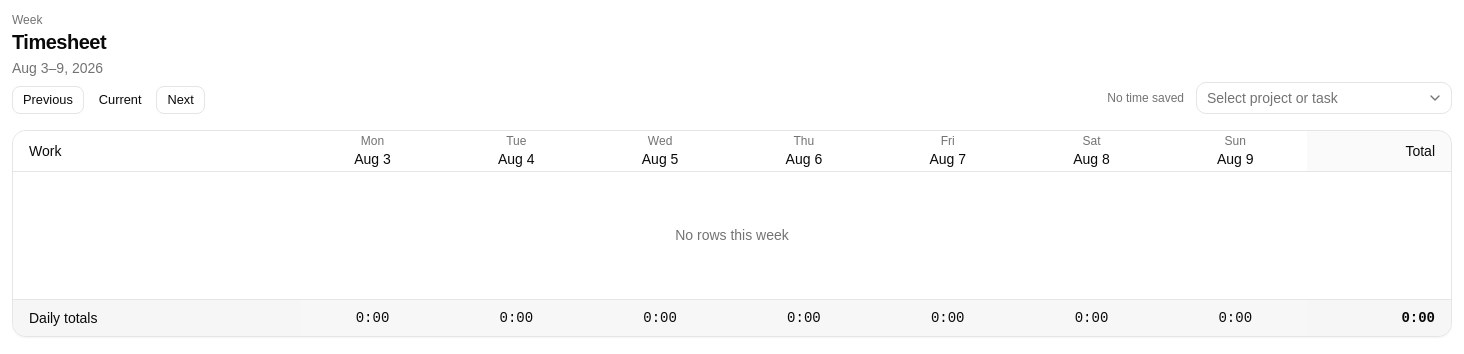
Scenario: adds a transient blank row from the selector
Check: the text "No rows this week" is shown, box x1=13 y1=171 x2=1451 y2=299
Click the dropdown labelled "Select project or task" at (1324, 98), box x1=1196 y1=82 x2=1452 y2=114
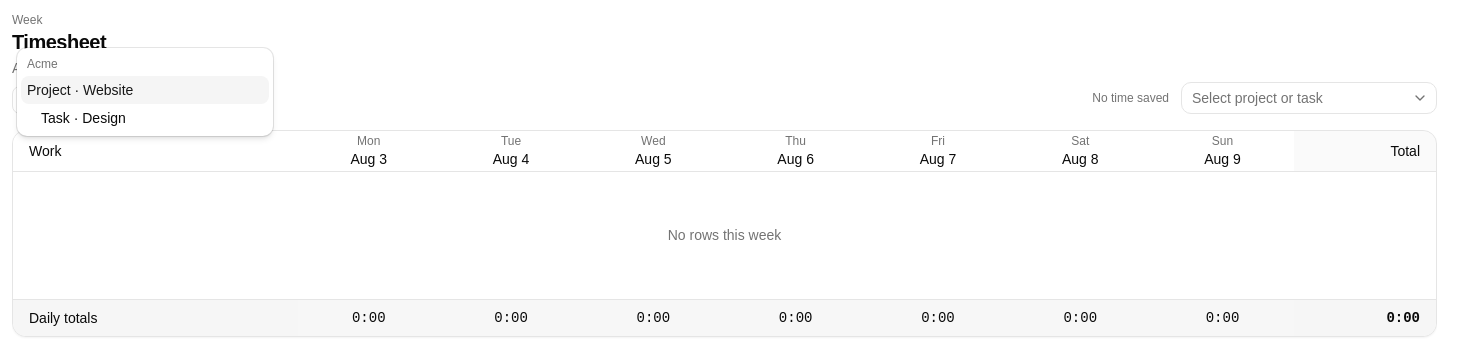
Click the option "Project · Website" at (145, 90), box x1=21 y1=76 x2=269 y2=104
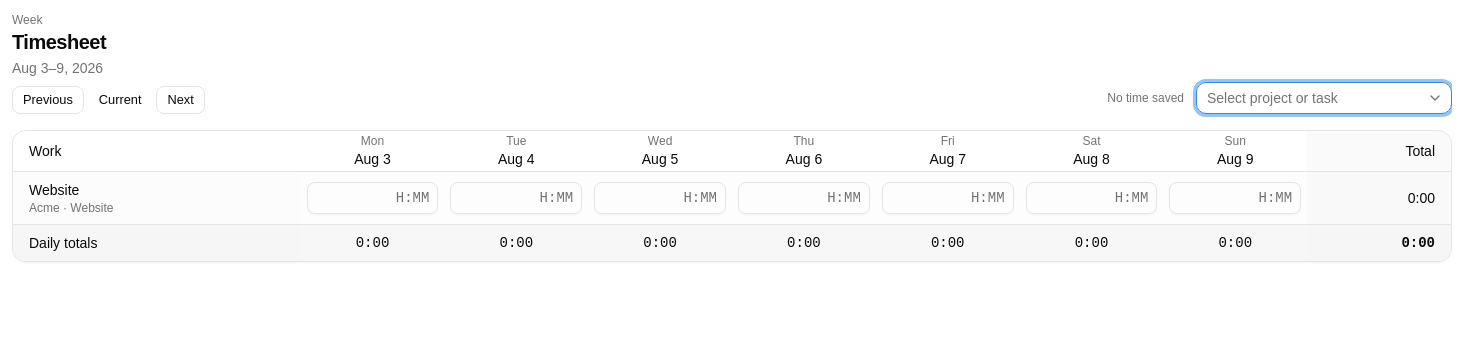
Check: the number of fields is 7
Check: the 1st field with placeholder "H:MM" is empty, box x1=307 y1=182 x2=438 y2=214
Check: the text "No rows this week" is gone
